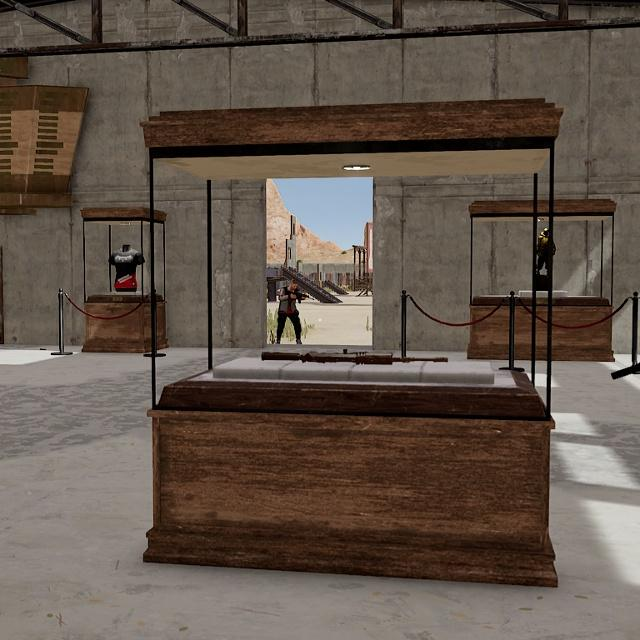head: (289, 277, 301, 293)
people: (273, 276, 305, 346)
